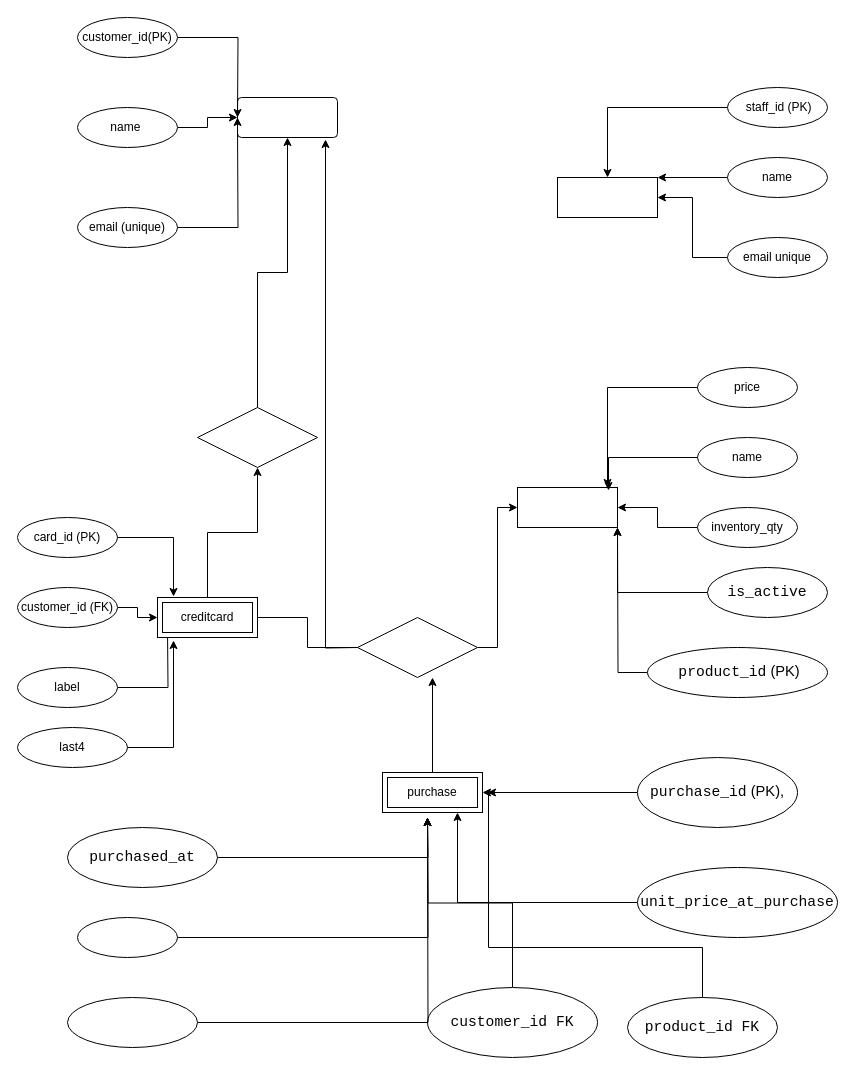
Image size: 855x1075. Some labels were removed from this diagram. The box of each missing label's shape, as (x1, y1, x2, y2) in pixels:
card_id FK: (66, 996, 198, 1048)
CUSTOMER: (236, 96, 338, 138)
has_creditcard: (196, 406, 318, 468)
has_purchased: (356, 616, 478, 678)
Product: (516, 486, 618, 528)
qty: (76, 916, 178, 958)
staff: (556, 176, 658, 218)
